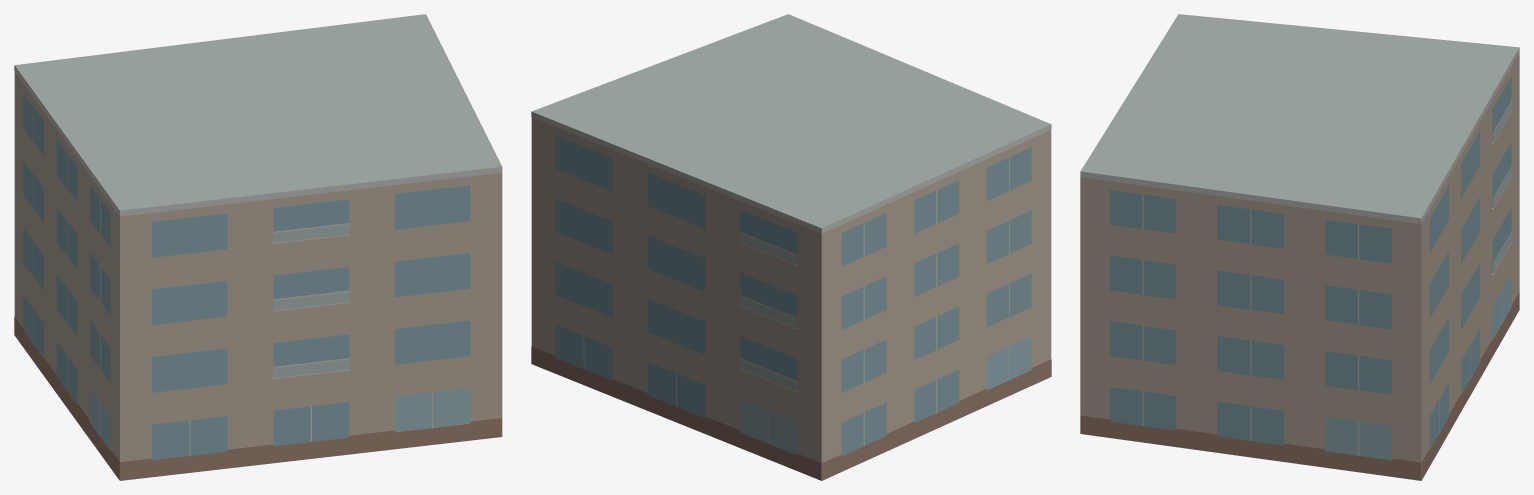
Rendered from survey-upis-32932661.glb.
3 renders of one model, left to right at view 1: azimuth 30°, elevation 25°; view 2: azimuth 150°, elevation 25°; view 3: azimuth 270°, elevation 25°, orthographic. The views are drawn at different scales.
Parts seen in each view (by area): view 1: survey-upis-32932661.tmp; view 2: survey-upis-32932661.tmp; view 3: survey-upis-32932661.tmp.
Boxes of the visible parts, bbox=[...] form: survey-upis-32932661.tmp: bbox=[14, 14, 502, 480]; survey-upis-32932661.tmp: bbox=[531, 14, 1051, 480]; survey-upis-32932661.tmp: bbox=[1080, 14, 1519, 480].
Size of the model in its own units: 18.58 by 11.12 by 16.87.
